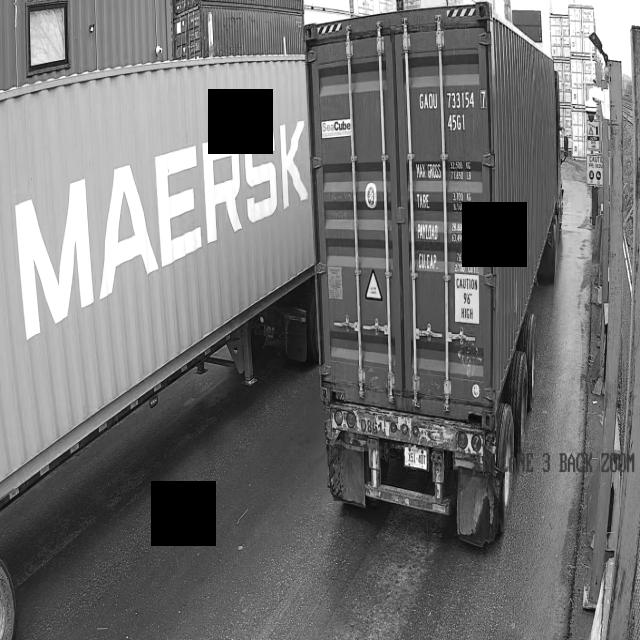container_company_logo: (10, 94, 316, 353), (320, 114, 358, 146)
container_number: (415, 82, 478, 136)
license_plate: (404, 442, 429, 471)
truck_with_container: (0, 55, 345, 506), (305, 0, 563, 545)
